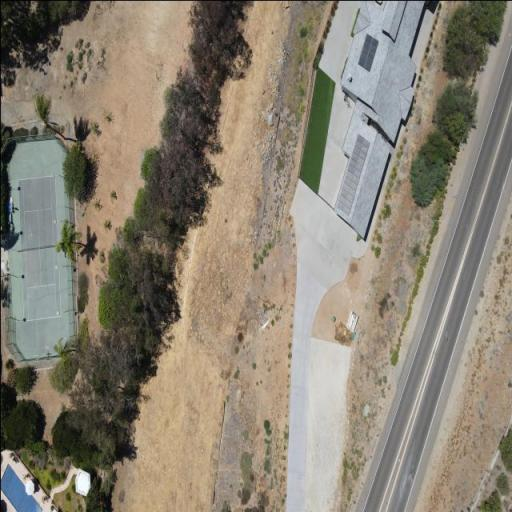solar-panel: (336, 132, 369, 215), (357, 32, 378, 71)
